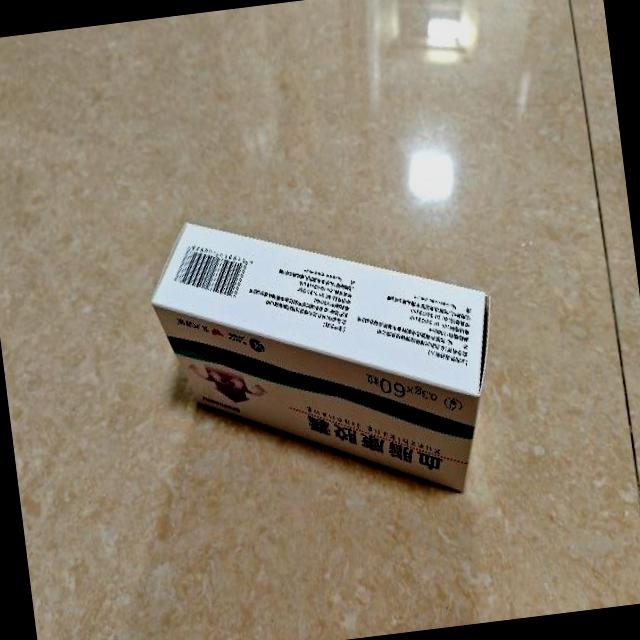box: (140, 187, 511, 528)
